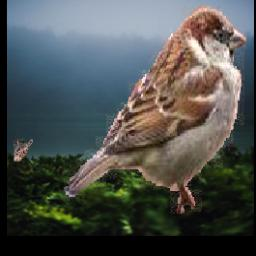Sparrow: (63, 7, 246, 215), (14, 140, 33, 162)
